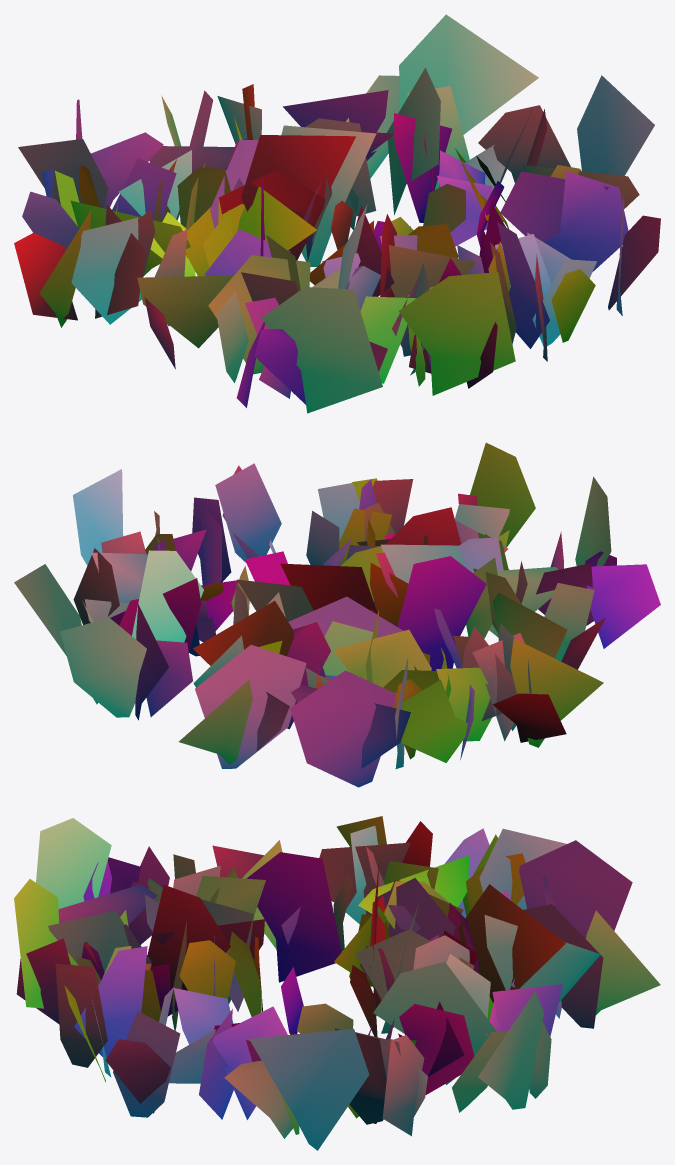
File: Grass_Clumps_rbojr_High_rbojr_VarC_LOD1.fbx
The picture shows the model from 3 angles, top to bottom: view 1: azimuth 30°, elevation 25°; view 2: azimuth 150°, elevation 25°; view 3: azimuth 270°, elevation 25°; orthographic projection. The views are drawn at different scales.
Parts seen in each view (by area): view 1: _1115_VarC_LOD1; view 2: _1115_VarC_LOD1; view 3: _1115_VarC_LOD1.
Part boxes in pixels (x1=…): _1115_VarC_LOD1: x1=14, y1=14, x2=660, y2=413; _1115_VarC_LOD1: x1=14, y1=442, x2=660, y2=787; _1115_VarC_LOD1: x1=14, y1=816, x2=660, y2=1150.
Size of the model in its own units: 84.72 by 21.78 by 84.85.
